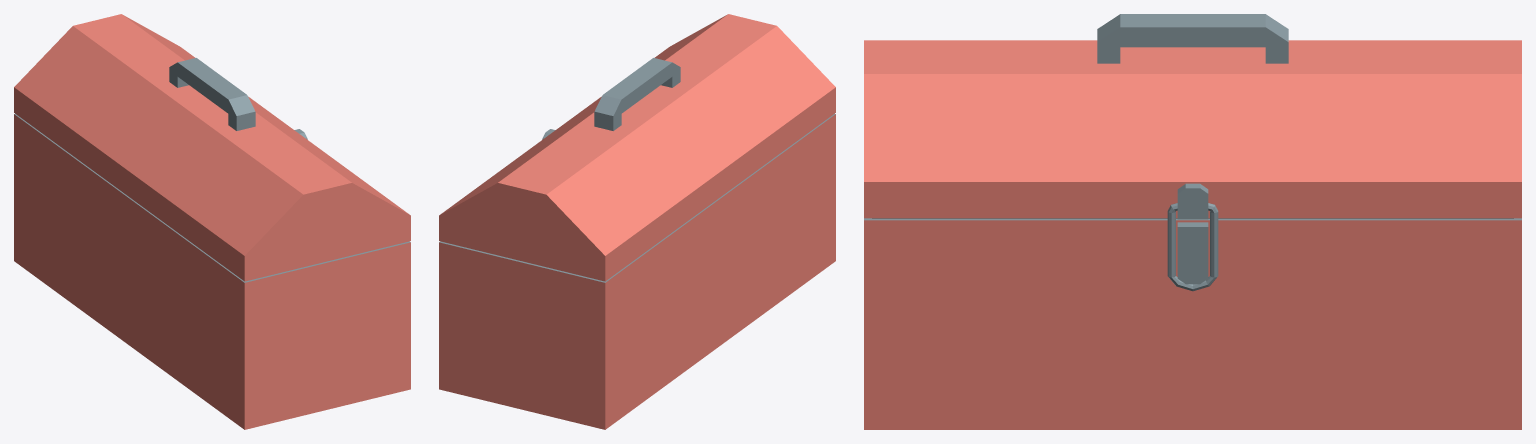
File: toolbox.gltf
3 renders of one model, left to right at view 1: azimuth 30°, elevation 25°; view 2: azimuth 150°, elevation 25°; view 3: azimuth 270°, elevation 25°, orthographic. The views are drawn at different scales.
Parts seen in each view (by area): view 1: node-0; view 2: node-0; view 3: node-0.
Boxes of the visible parts, bbox=[...] form: node-0: bbox=[14, 14, 410, 429]; node-0: bbox=[439, 14, 835, 429]; node-0: bbox=[864, 14, 1521, 429].
Size of the model in its own units: 4.29 by 5.86 by 9.93.
